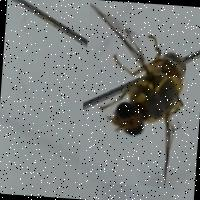Oriental-fruit-fly: (77, 0, 200, 189)
